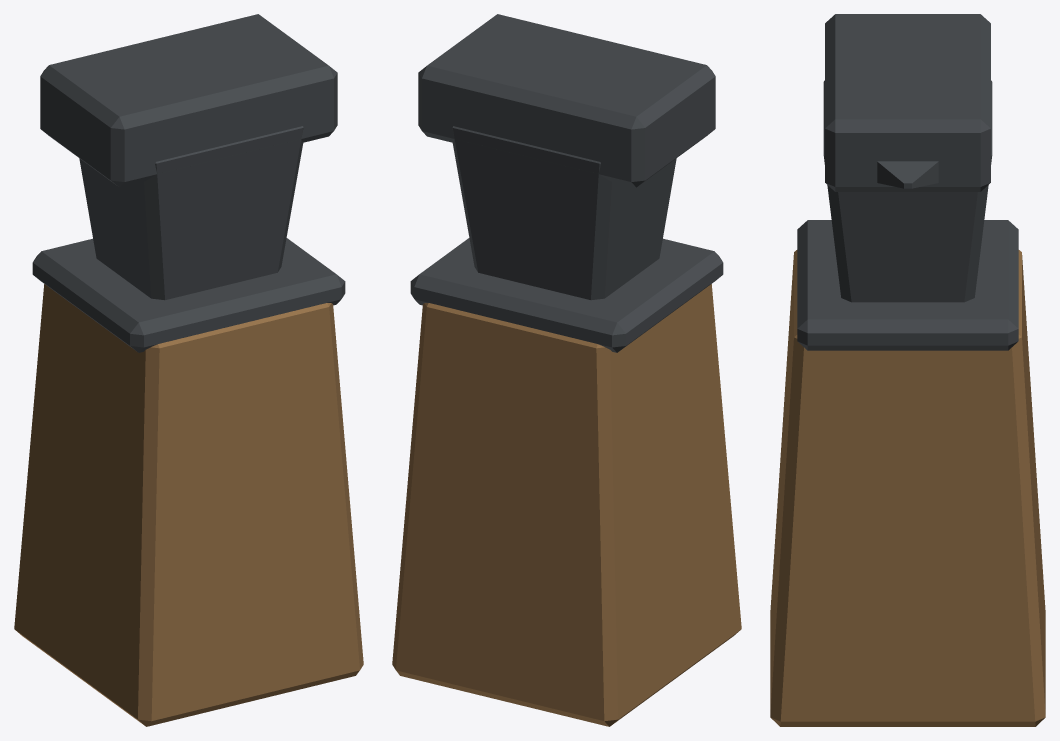
The model's file is interior-yard.glb.
The picture shows the model from 3 angles, left to right: view 1: azimuth 30°, elevation 25°; view 2: azimuth 150°, elevation 25°; view 3: azimuth 270°, elevation 25°; orthographic projection. The views are drawn at different scales.
Parts seen in each view (by area): view 1: interior-yard-visual; view 2: interior-yard-visual; view 3: interior-yard-visual.
Part boxes in pixels (bbox=[...]): interior-yard-visual: bbox=[14, 14, 363, 726]; interior-yard-visual: bbox=[392, 14, 741, 726]; interior-yard-visual: bbox=[770, 14, 1045, 726].
Size of the model in its own units: 0.4375 by 0.97 by 0.3983.
